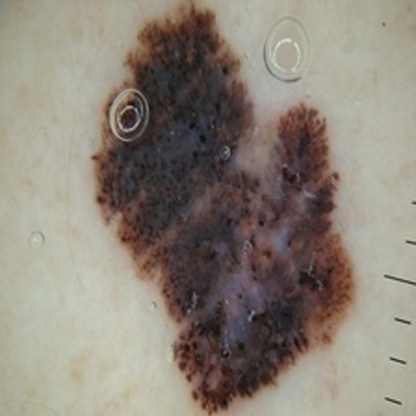malignant: (102, 47, 353, 383)
